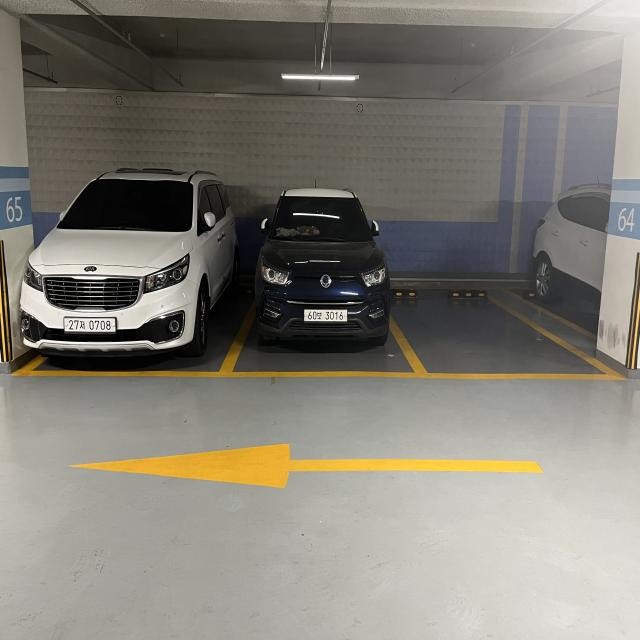empty: (385, 291, 612, 384)
occupied: (18, 157, 221, 386), (243, 172, 398, 384)
